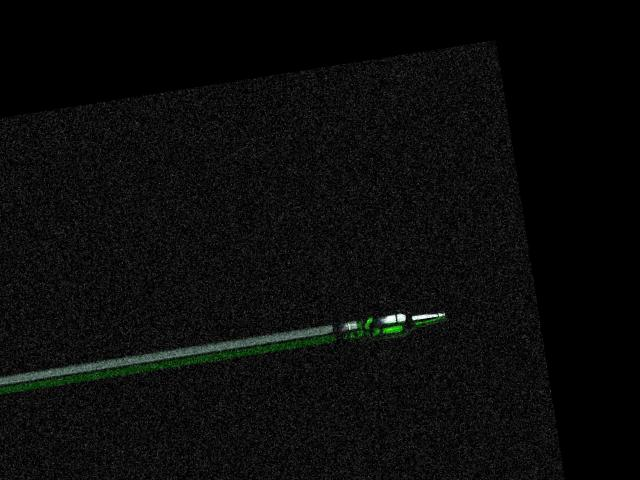beer: (347, 305, 447, 344)
